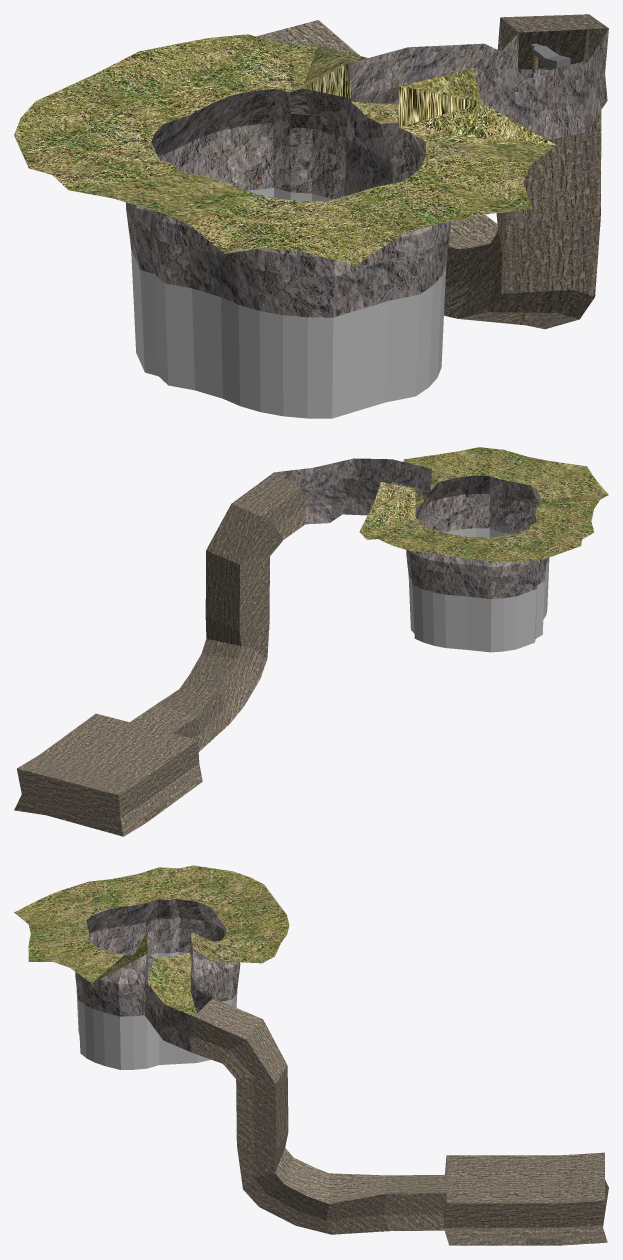
Rendered from Mint tag map.fbx.
3 renders of one model, top to bottom at view 1: azimuth 30°, elevation 25°; view 2: azimuth 150°, elevation 25°; view 3: azimuth 270°, elevation 25°, orthographic. The views are drawn at different scales.
Visible parts, largest first — view 1: grass, slip walls, dirt, tutorial, red walls, rope hang thing; view 2: tutorial, grass, slip walls, dirt, red walls; view 3: tutorial, grass, red walls, slip walls, dirt.
Boxes of the visible parts, <box> form: grass: <box>14,34,556,265</box>; slip walls: <box>126,29,608,317</box>; dirt: <box>131,188,446,418</box>; tutorial: <box>256,14,608,329</box>; red walls: <box>126,88,451,276</box>; rope hang thing: <box>531,43,570,69</box>; tutorial: <box>14,472,306,836</box>; grass: <box>359,447,608,562</box>; slip walls: <box>274,458,548,598</box>; dirt: <box>408,528,549,652</box>; red walls: <box>406,475,546,577</box>; tutorial: <box>189,998,608,1245</box>; grass: <box>14,865,289,1016</box>; red walls: <box>75,898,240,994</box>; slip walls: <box>75,928,239,1052</box>; dirt: <box>76,952,237,1069</box>.
Size of the model in its own units: 625 by 379 by 892.
